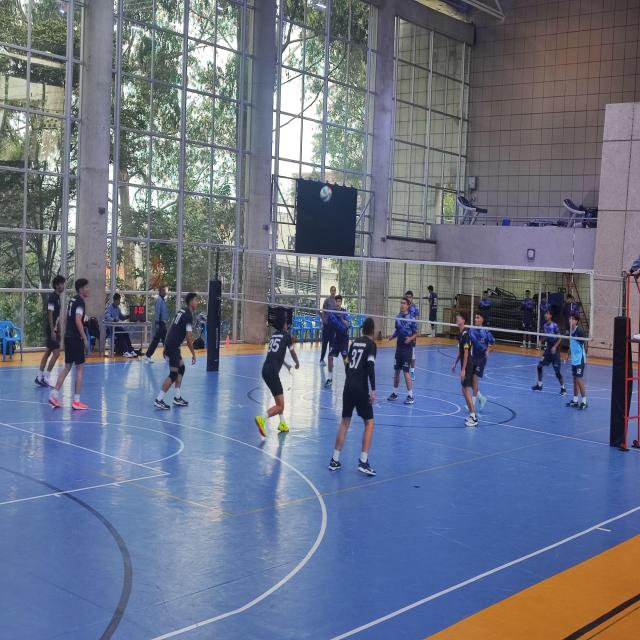volleyball: (320, 186, 332, 202)
